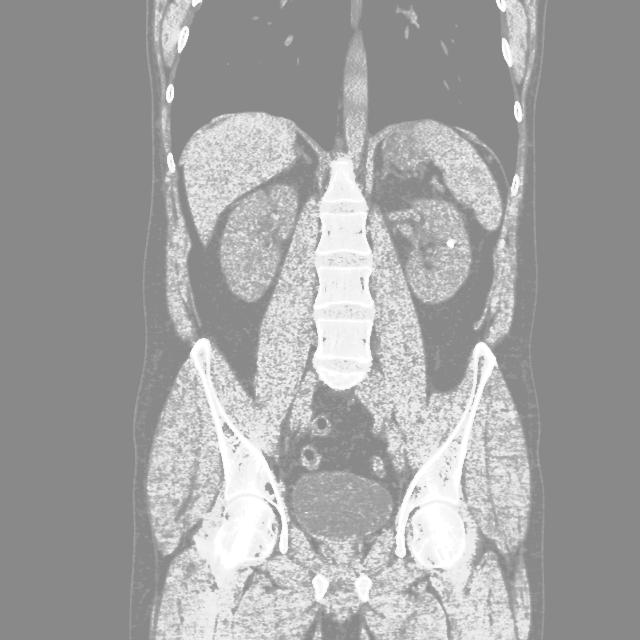STONE: (210, 159, 489, 311)
